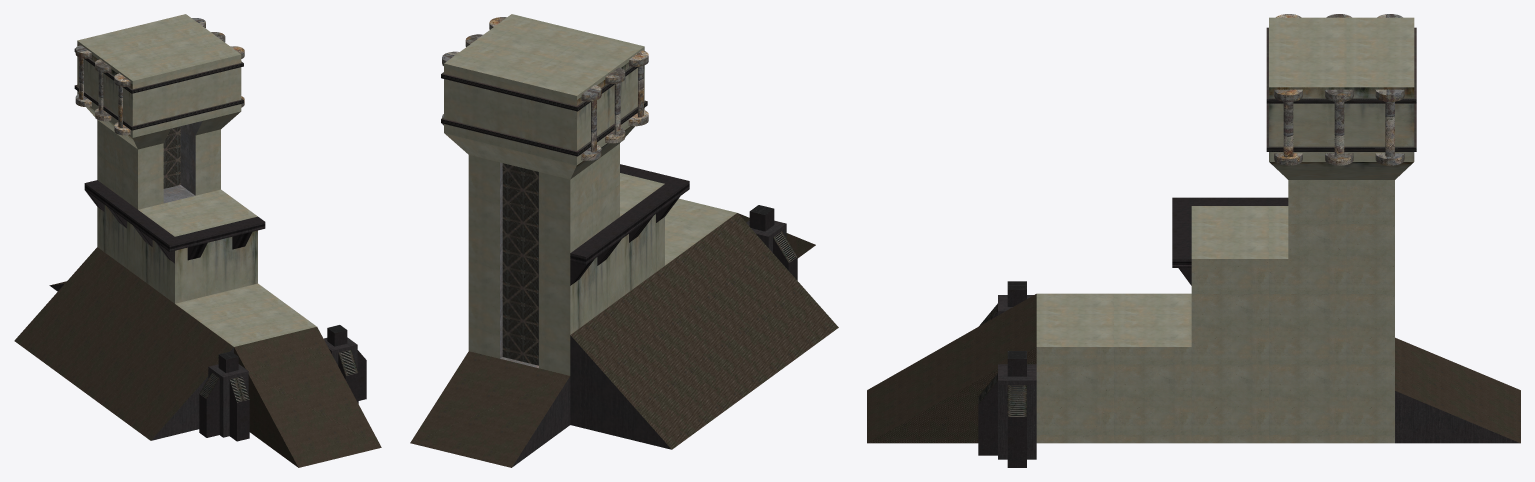
Rendered from leftsidebase.fbx.
3 renders of one model, left to right at view 1: azimuth 30°, elevation 25°; view 2: azimuth 150°, elevation 25°; view 3: azimuth 270°, elevation 25°, orthographic. The views are drawn at different scales.
Visible parts, largest first — view 1: Object; view 2: Object; view 3: Object.
Boxes of the visible parts, x1,y1,x2,y2 form: Object: (14,14,381,467); Object: (410,14,838,467); Object: (867,14,1520,467).
Size of the model in its own units: 6400 by 8300 by 13500.
